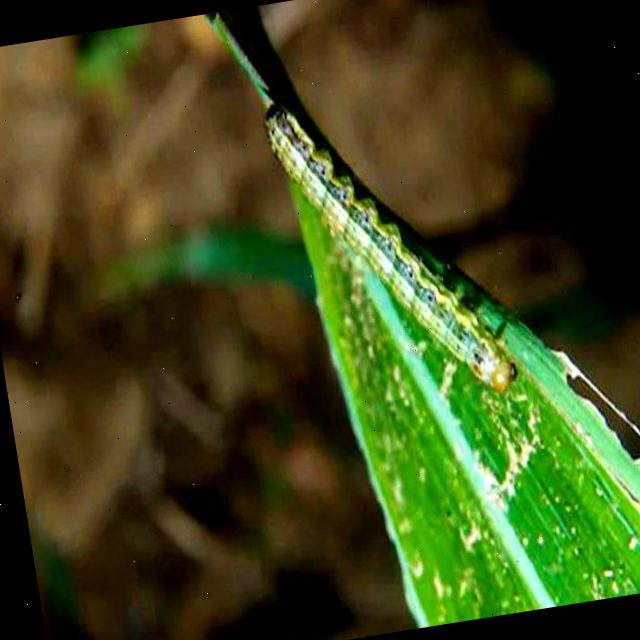worm: (259, 74, 523, 428)
